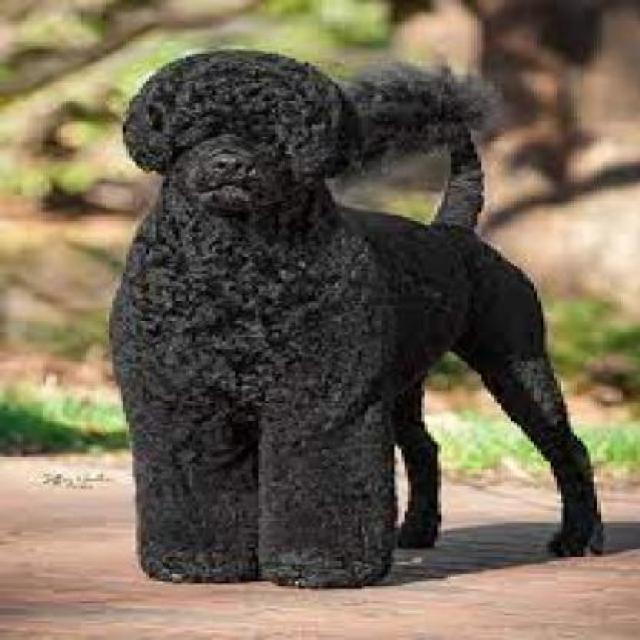animals: (7, 26, 604, 632)
